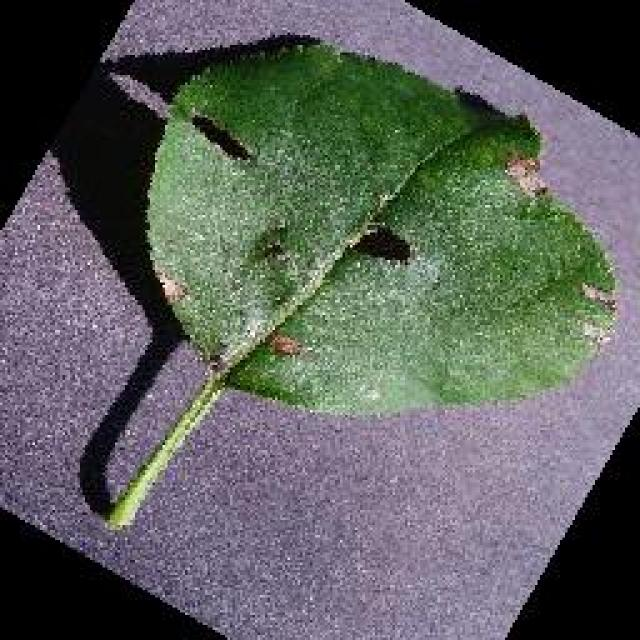Black_rot: (82, 32, 618, 530)
